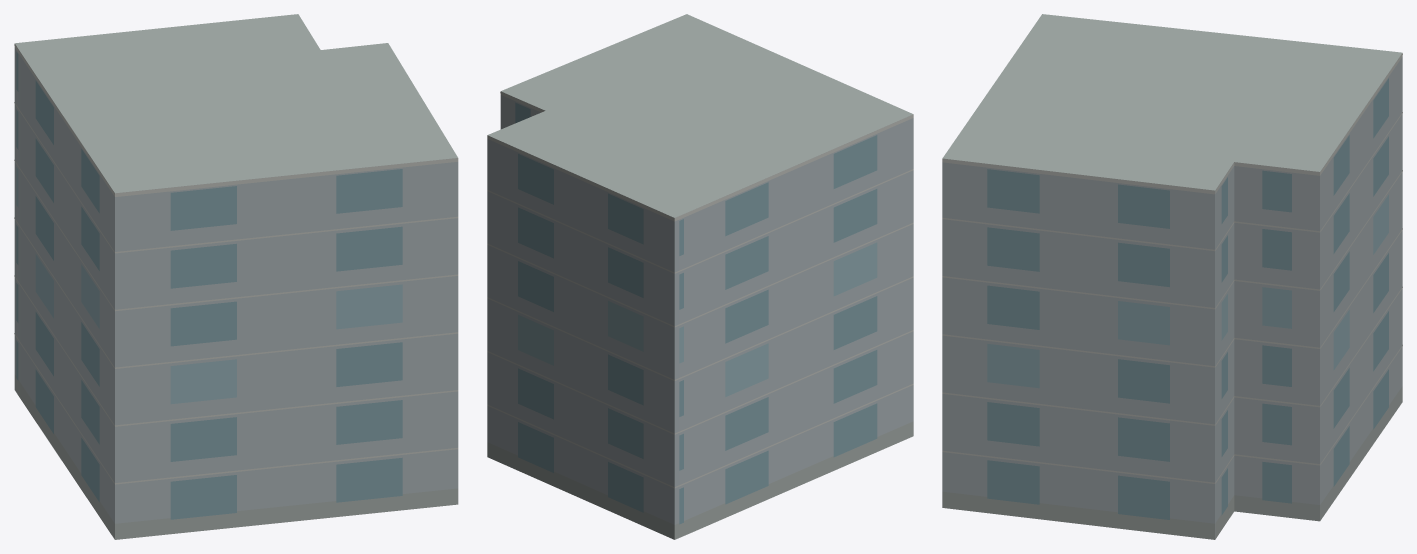
Rendered from survey-upis-33022240.glb.
3 views of the same model, side by side, from view 1: azimuth 30°, elevation 25°; view 2: azimuth 150°, elevation 25°; view 3: azimuth 270°, elevation 25° (orthographic). The views are drawn at different scales.
Parts seen in each view (by area): view 1: survey-upis-33022240.tmp; view 2: survey-upis-33022240.tmp; view 3: survey-upis-33022240.tmp.
Boxes of the visible parts, box(x1,y1,x2,y2) form: survey-upis-33022240.tmp: box(14, 14, 458, 539); survey-upis-33022240.tmp: box(487, 14, 913, 539); survey-upis-33022240.tmp: box(942, 14, 1402, 539).
Bounding box in the file's own units: 23.65 × 21.8 × 26.05.
